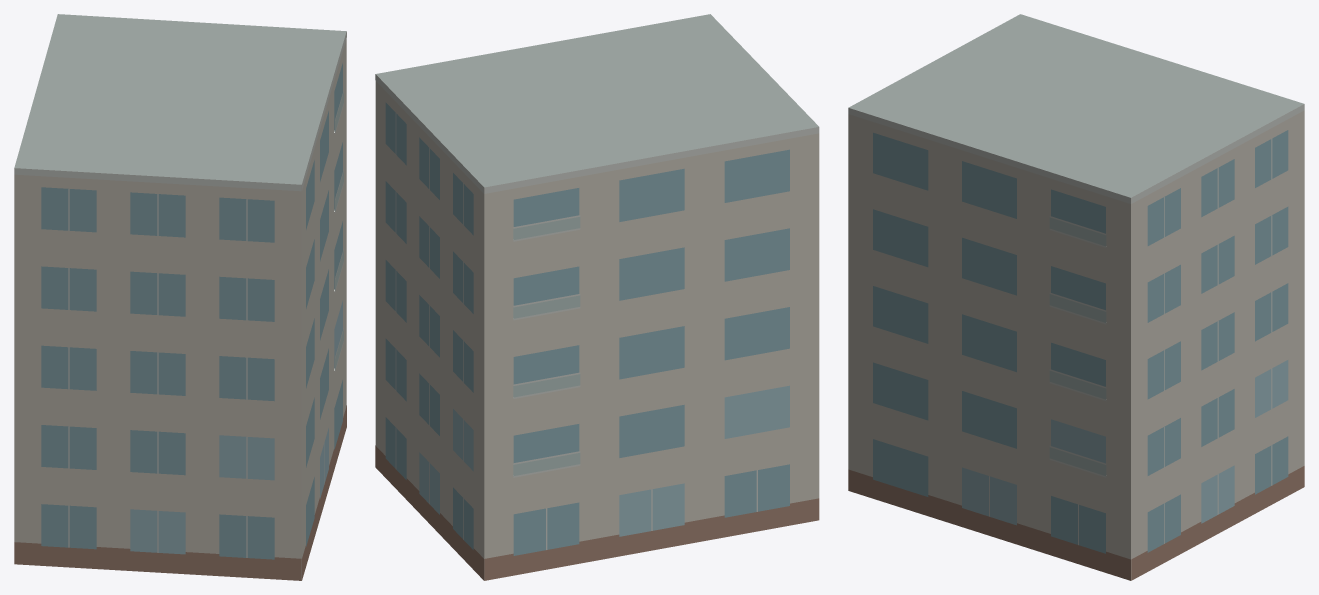
Rendered from survey-upis-32960566.glb.
3 renders of one model, left to right at view 1: azimuth 30°, elevation 25°; view 2: azimuth 150°, elevation 25°; view 3: azimuth 270°, elevation 25°, orthographic. The views are drawn at different scales.
Visible parts, largest first — view 1: survey-upis-32960566.tmp; view 2: survey-upis-32960566.tmp; view 3: survey-upis-32960566.tmp.
Boxes of the visible parts, bbox=[...] form: survey-upis-32960566.tmp: bbox=[14, 14, 346, 580]; survey-upis-32960566.tmp: bbox=[375, 14, 819, 580]; survey-upis-32960566.tmp: bbox=[848, 14, 1304, 580].
Bounding box in the file's own units: 15.25 × 14.8 × 15.99.
